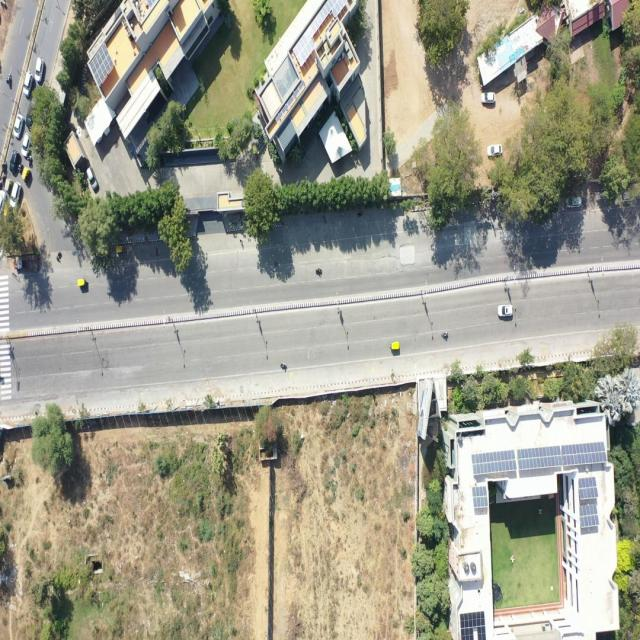3W: (388, 336, 402, 361), (74, 272, 90, 293), (20, 165, 32, 186), (112, 244, 129, 258), (4, 178, 14, 195)
Cars: (34, 47, 47, 86), (12, 107, 26, 142), (495, 300, 517, 322), (482, 141, 506, 161), (84, 164, 101, 192), (8, 178, 22, 211), (22, 67, 35, 102), (20, 128, 33, 159), (564, 191, 583, 211), (8, 146, 20, 176), (618, 188, 638, 205), (480, 88, 497, 108), (0, 190, 9, 220)
M2W: (4, 68, 16, 94), (438, 326, 452, 345), (25, 147, 35, 169), (278, 358, 290, 375), (354, 208, 366, 222), (314, 265, 325, 278), (16, 162, 25, 175), (2, 159, 8, 175), (0, 176, 6, 188)
